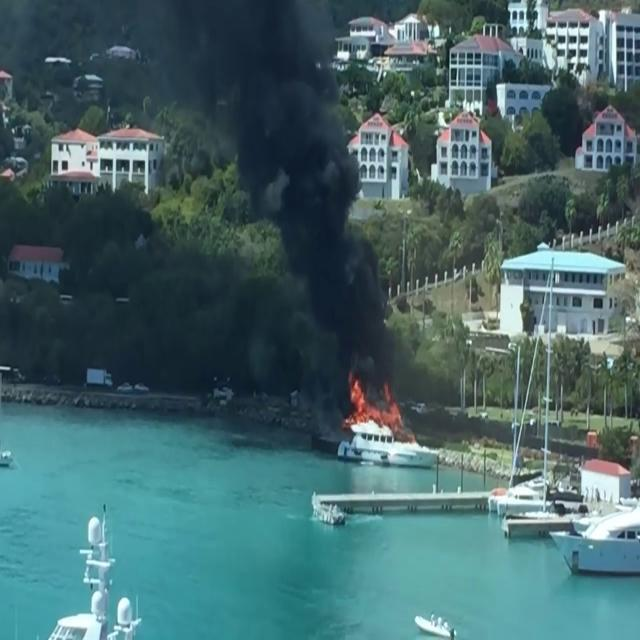Fire: (344, 375, 404, 437)
Smoke: (121, 0, 402, 424)
